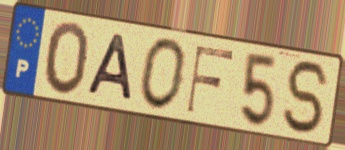5: (238, 50, 279, 130)
A: (85, 31, 135, 104)
F: (184, 44, 237, 117)
O: (138, 35, 190, 113), (43, 19, 92, 98)
S: (281, 58, 333, 138)
